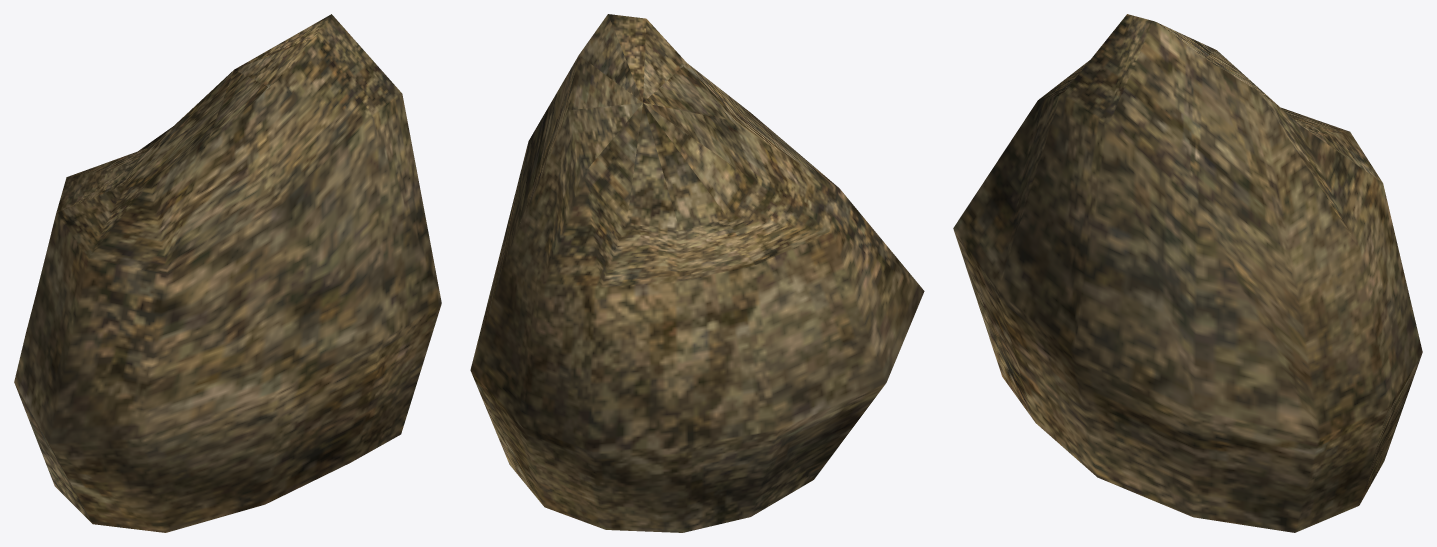
Rendered from CH09_SMAUG_PLAYSURFACE_LONELYMOUNTAIN_LM_PLAYSURFACE22.fbx.
3 views of the same model, side by side, from view 1: azimuth 30°, elevation 25°; view 2: azimuth 150°, elevation 25°; view 3: azimuth 270°, elevation 25° (orthographic). The views are drawn at different scales.
Parts seen in each view (by area): view 1: CH09_SMAUG_PLAYSURFACE_LONELYMOUNTAIN_LM_PLAYSURFACE22; view 2: CH09_SMAUG_PLAYSURFACE_LONELYMOUNTAIN_LM_PLAYSURFACE22; view 3: CH09_SMAUG_PLAYSURFACE_LONELYMOUNTAIN_LM_PLAYSURFACE22.
Part boxes in pixels (x1=…): CH09_SMAUG_PLAYSURFACE_LONELYMOUNTAIN_LM_PLAYSURFACE22: x1=14, y1=14, x2=441, y2=532; CH09_SMAUG_PLAYSURFACE_LONELYMOUNTAIN_LM_PLAYSURFACE22: x1=470, y1=14, x2=924, y2=532; CH09_SMAUG_PLAYSURFACE_LONELYMOUNTAIN_LM_PLAYSURFACE22: x1=953, y1=14, x2=1422, y2=532.
Bounding box in the file's own units: 70052 × 78972 × 67514.
Materials: 1 (1 with a texture image).
